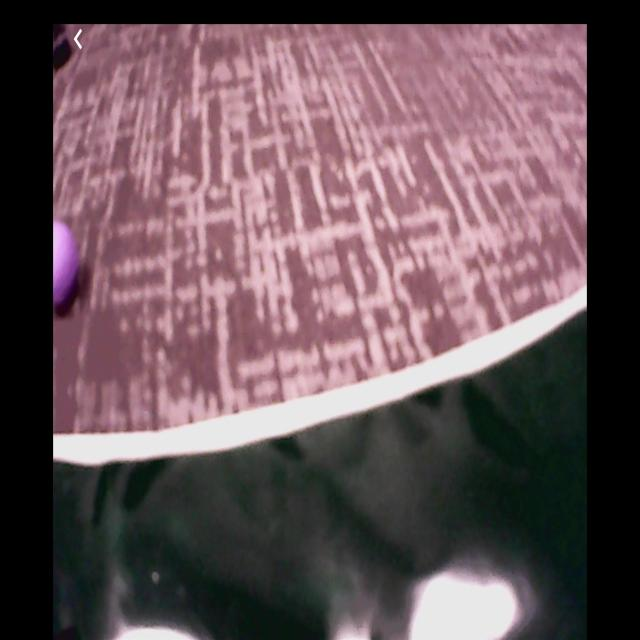ball: (54, 219, 82, 317)
